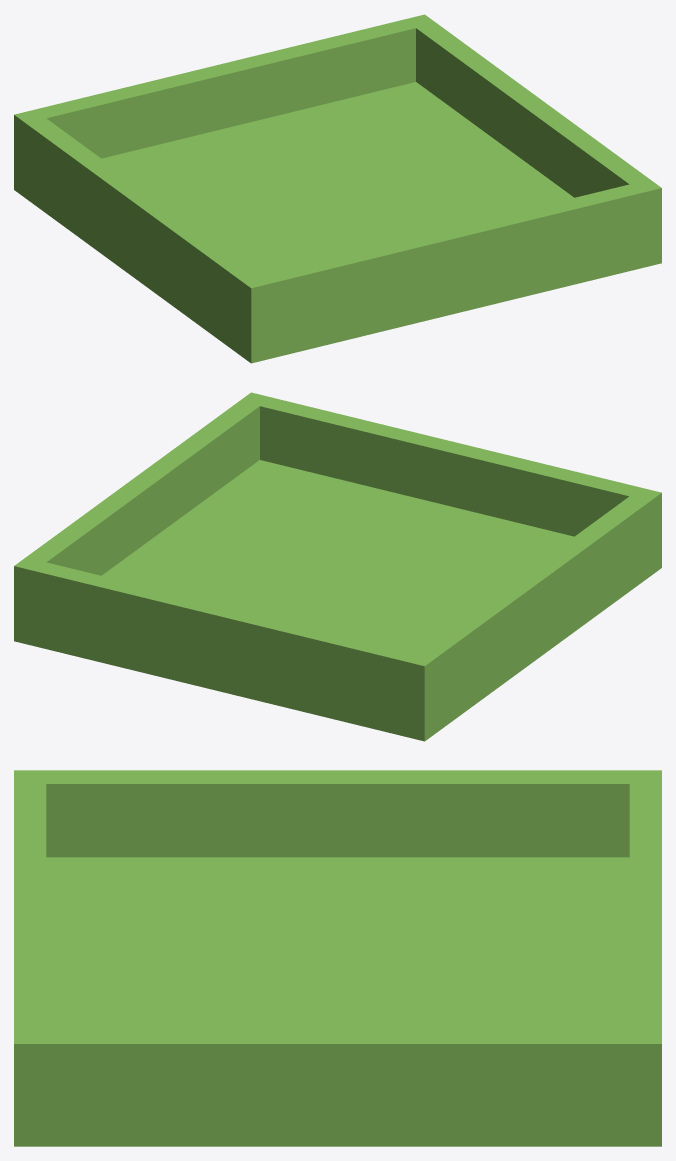
Rendered from LimeRoof_4Edges.glb.
3 renders of one model, top to bottom at view 1: azimuth 30°, elevation 25°; view 2: azimuth 150°, elevation 25°; view 3: azimuth 270°, elevation 25°, orthographic. The views are drawn at different scales.
Visible parts, largest first — view 1: roof_flat_4Edges_lime; view 2: roof_flat_4Edges_lime; view 3: roof_flat_4Edges_lime.
Part boxes in pixels (x1,y1,x2,y2): roof_flat_4Edges_lime: [14, 14, 661, 363]; roof_flat_4Edges_lime: [14, 392, 661, 741]; roof_flat_4Edges_lime: [14, 770, 661, 1146].
Size of what is drawn, in the model's own units: 4 by 0.7 by 4.
Materials: 1 (1 with a texture image).
